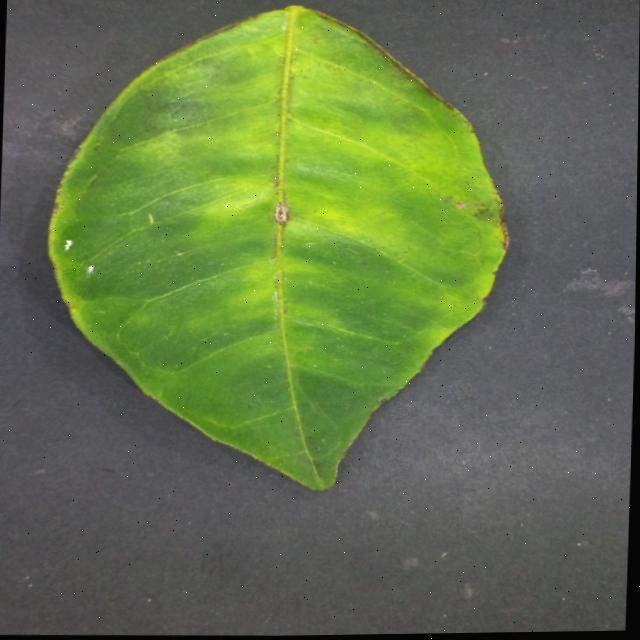greening: (48, 7, 503, 489)
